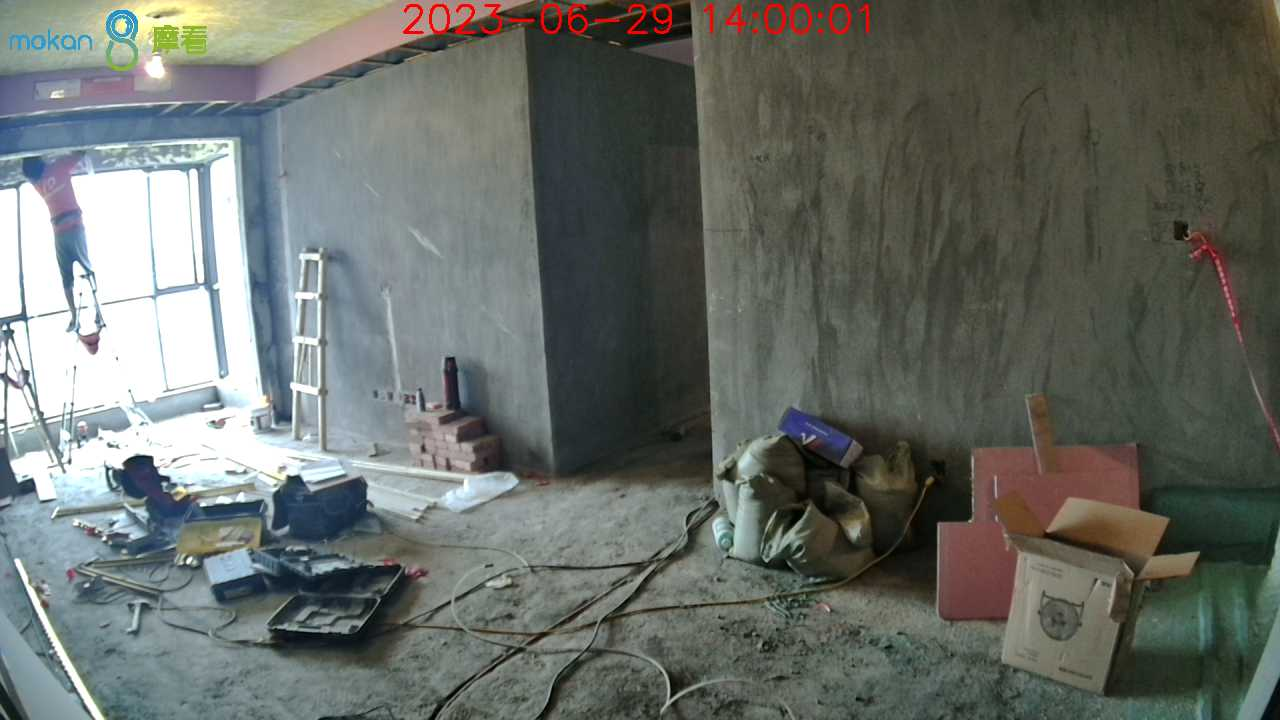people: (14, 156, 110, 340)
window: (1, 169, 250, 412)
